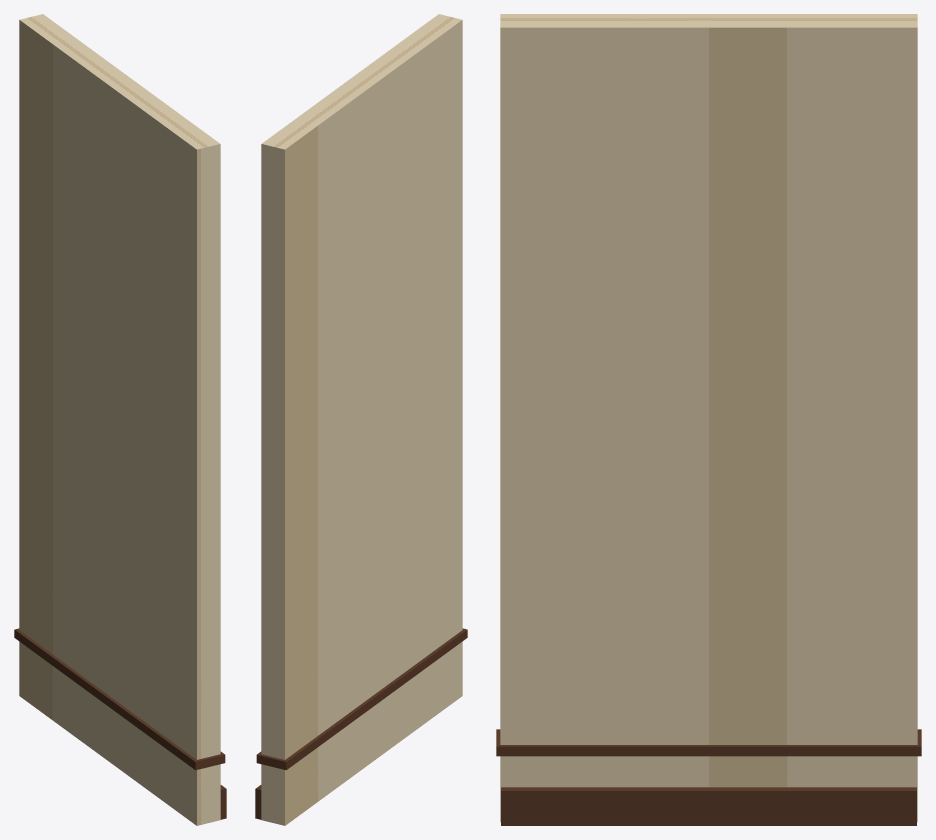
Rendered from stair_west.glb.
3 renders of one model, left to right at view 1: azimuth 30°, elevation 25°; view 2: azimuth 150°, elevation 25°; view 3: azimuth 270°, elevation 25°, orthographic. The views are drawn at different scales.
Parts seen in each view (by area): view 1: Box1, Box3, Box4; view 2: Box1, Box3, Box4; view 3: Box1, Box2, Box3, Box4.
Part boxes in pixels (box(x1,y1,x2,y2)): Box1: box(19, 14, 220, 825); Box3: box(19, 641, 220, 825); Box4: box(14, 628, 225, 770); Box1: box(261, 14, 462, 825); Box3: box(261, 642, 462, 825); Box4: box(256, 628, 467, 770); Box1: box(500, 14, 917, 822); Box2: box(501, 787, 916, 825); Box3: box(500, 756, 917, 822); Box4: box(496, 729, 921, 756).
Bounding box in the file's own units: 0.21 × 4.1 × 1.99.
2 materials, 1 textured.
